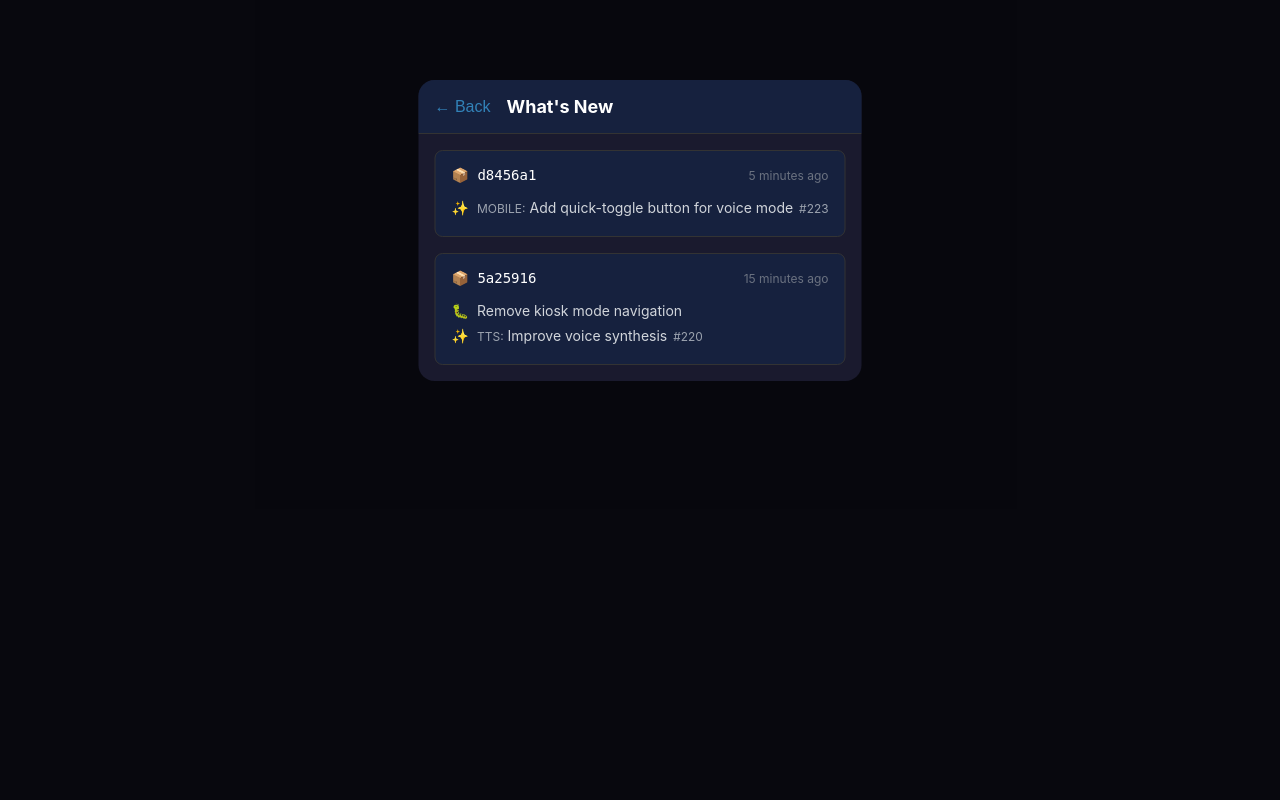
ReleaseNotes › timestamp toggling › toggles back to relative time on second click
Check: the text "📦 d8456a1" is shown, box [452,167,536,183]
Click the button with class "release-header" showing "📦 d8456a1 5 minutes ago" at (507, 175), box [448,163,832,187]
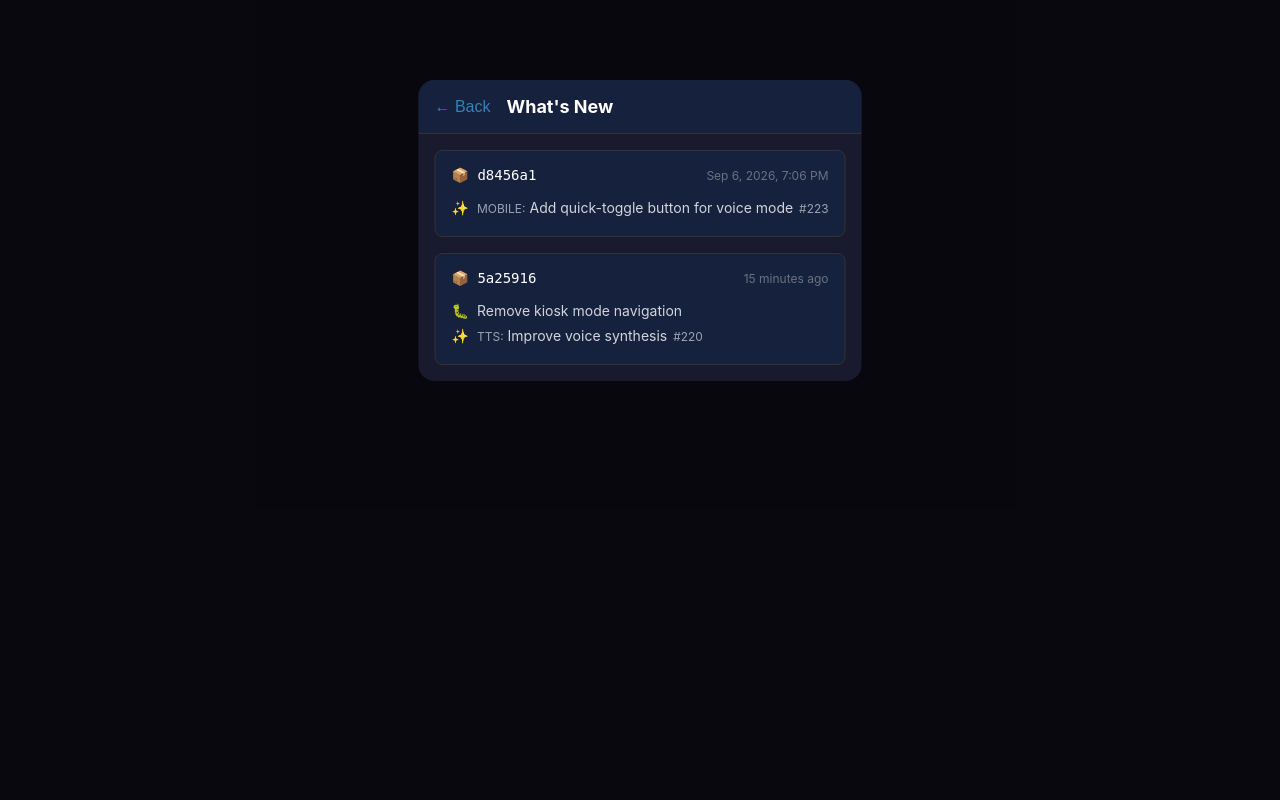
Check: the text with class "release-timestamp" shows "Sep", box [706,168,828,182]
Click the button with class "release-header" showing "📦 d8456a1 Sep 6, 2026, 7:06 PM" at (507, 175), box [448,163,832,187]
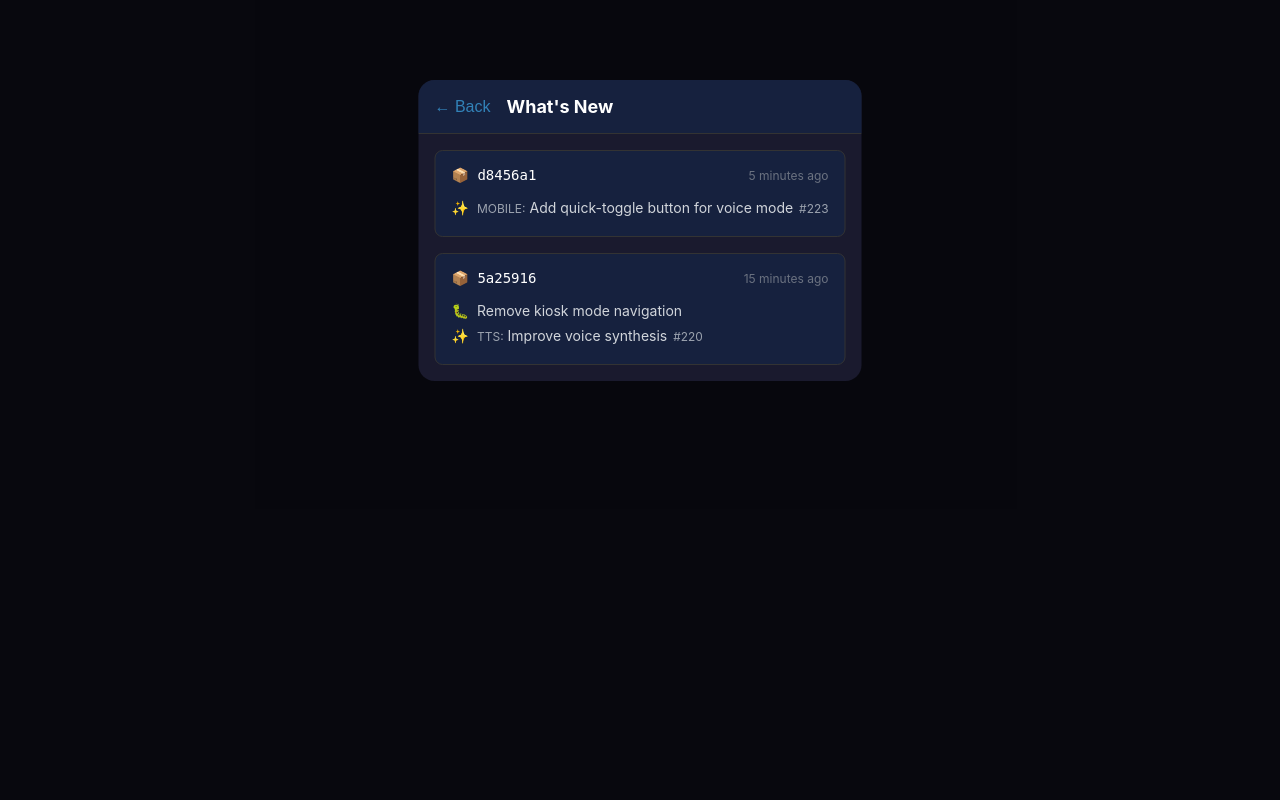
Check: the text with class "release-timestamp" reads "5 minutes ago", box [749,168,828,182]
